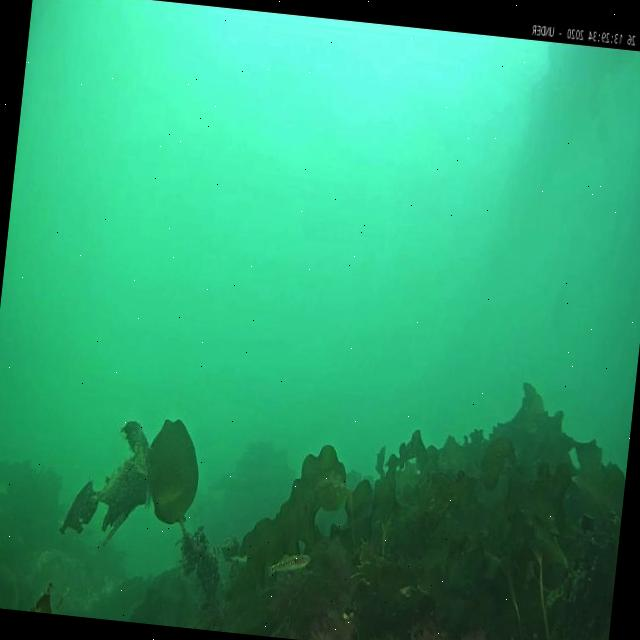fish: (266, 546, 310, 579)
